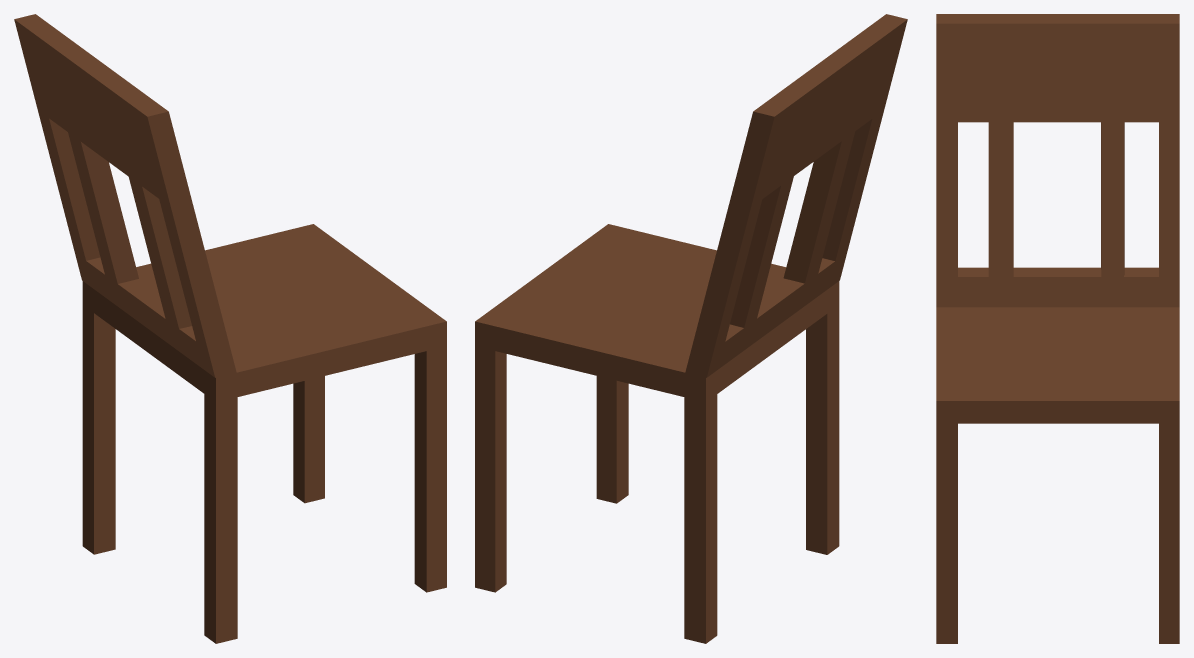
File: chair.glb
3 renders of one model, left to right at view 1: azimuth 30°, elevation 25°; view 2: azimuth 150°, elevation 25°; view 3: azimuth 270°, elevation 25°, orthographic. The views are drawn at different scales.
Visible parts, largest first — view 1: Cube; view 2: Cube; view 3: Cube.
Boxes of the visible parts, bbox=[...] form: Cube: bbox=[14, 14, 446, 643]; Cube: bbox=[475, 14, 907, 643]; Cube: bbox=[936, 14, 1179, 643].
Size of the model in its own units: 2.59 by 4.5 by 2.
